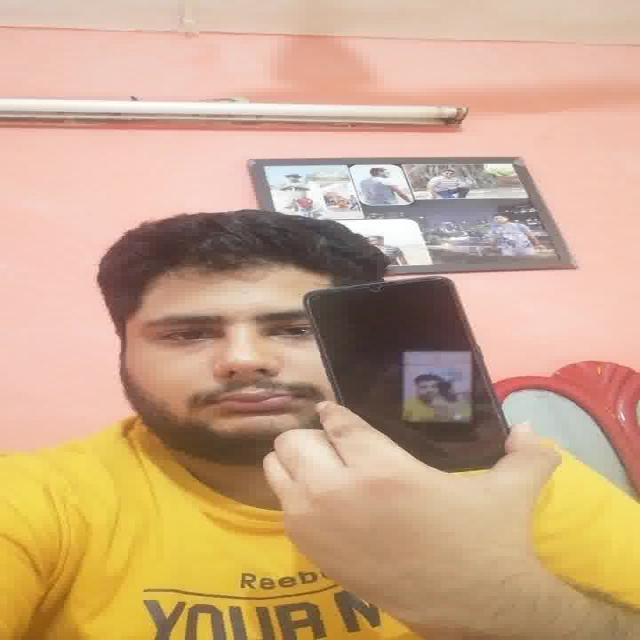Phone: (303, 272, 510, 476)
